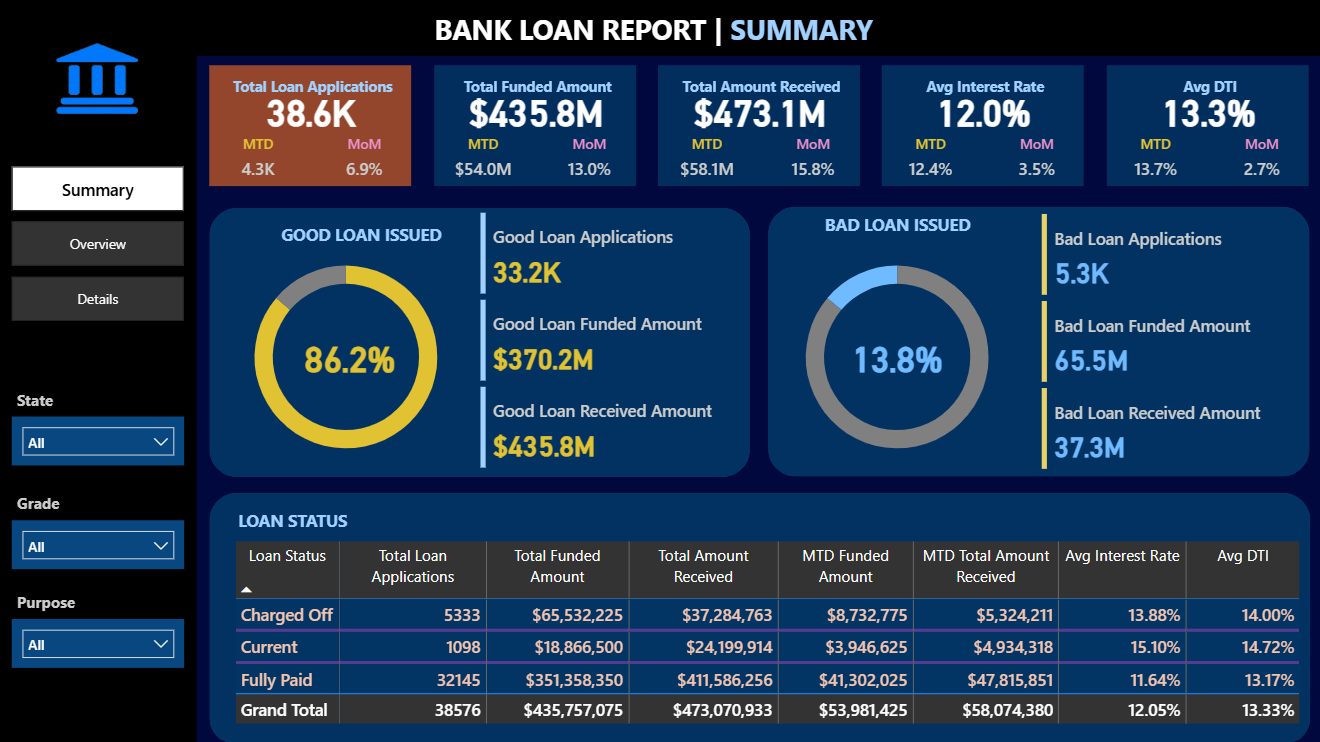

The page's visual inventory and layout, read from the dashboard file:
{"tool":"powerbi","page":{"name":"Summary","canvas":[1280,720],"ordinal":0},"visuals":[{"type":"shape","box":[0,54.3,191.8,666],"z":0},{"type":"shape","box":[204.4,64.5,194.9,116.6],"z":0,"group":"g1"},{"type":"shape","box":[420.9,64.5,194.9,116.6],"z":0,"group":"g2"},{"type":"shape","box":[637.4,64.5,194.9,116.6],"z":0,"group":"g3"},{"type":"shape","box":[853.8,64.5,194.9,116.6],"z":0,"group":"g4"},{"type":"shape","box":[1070.3,64.5,194.9,116.6],"z":0,"group":"g5"},{"type":"shape","box":[0,0,1280.3,54.9],"z":1000},{"type":"card","fields":{"Values":["bank_loan_data.Total Loan Applications"]},"box":[190.7,86.5,223.7,43.9],"z":1000,"group":"g1"},{"type":"card","fields":{"Values":["bank_loan_data.Total Funded Amount"]},"box":[407.2,86.5,223.7,43.9],"z":1000,"group":"g2"},{"type":"card","fields":{"Values":["bank_loan_data.Total Amount Received"]},"box":[623.7,86.5,223.7,43.9],"z":1000,"group":"g3"},{"type":"card","fields":{"Values":["bank_loan_data.Avg Interest Rate"]},"box":[840.1,86.5,223.7,43.9],"z":1000,"group":"g4"},{"type":"card","fields":{"Values":["bank_loan_data.Avg DTI"]},"box":[1056.6,86.5,223.7,43.9],"z":1000,"group":"g5"},{"type":"textbox","box":[205.8,70,194.9,31.6],"z":2000,"group":"g1"},{"type":"textbox","box":[422.3,70,194.9,31.6],"z":2000,"group":"g2"},{"type":"textbox","box":[638.8,70,194.9,31.6],"z":2000,"group":"g3"},{"type":"textbox","box":[855.2,70,194.9,31.6],"z":2000,"group":"g4"},{"type":"textbox","box":[1071.7,70,194.9,31.6],"z":2000,"group":"g5"},{"type":"shape","box":[203.9,476.5,1062.9,243.7],"z":2000},{"type":"card","title":"MTD","fields":{"Values":["bank_loan_data.MTD Loan Applications"]},"box":[215.4,130.4,72.7,53.5],"z":3000,"group":"g1"},{"type":"card","title":"MTD","fields":{"Values":["bank_loan_data.MTD Funded Amount"]},"box":[431.9,130.4,72.7,53.5],"z":3000,"group":"g2"},{"type":"card","title":"MTD","fields":{"Values":["bank_loan_data.MTD Total Amount Received"]},"box":[648.4,130.4,72.7,53.5],"z":3000,"group":"g3"},{"type":"card","title":"MTD","fields":{"Values":["bank_loan_data.MTD Avg Interest Rate"]},"box":[864.8,130.4,72.7,53.5],"z":3000,"group":"g4"},{"type":"card","title":"MTD","fields":{"Values":["bank_loan_data.MTD Avg DTI"]},"box":[1081.3,130.4,72.7,53.5],"z":3000,"group":"g5"},{"type":"shape","box":[204.5,201.7,522,260],"z":3000},{"type":"card","title":"MoM","fields":{"Values":["bank_loan_data.MoM Loan Application"]},"box":[316.9,130.4,72.7,53.5],"z":4000,"group":"g1"},{"type":"card","title":"MoM","fields":{"Values":["bank_loan_data.MoM Total Funded Amount"]},"box":[533.4,130.4,72.7,53.5],"z":4000,"group":"g2"},{"type":"card","title":"MoM","fields":{"Values":["bank_loan_data.MoM Total Amount Received"]},"box":[749.9,130.4,72.7,53.5],"z":4000,"group":"g3"},{"type":"card","title":"MoM","fields":{"Values":["bank_loan_data.MoM Avg Interest Rate"]},"box":[966.3,130.4,72.7,53.5],"z":4000,"group":"g4"},{"type":"card","title":"MoM","fields":{"Values":["bank_loan_data.MoM Avg DTI"]},"box":[1182.8,130.4,72.7,53.5],"z":4000,"group":"g5"},{"type":"card","fields":{"Values":["bank_loan_data.Good Loan %"]},"box":[284,323.8,112.5,43.9],"z":4000},{"type":"textbox","box":[226.8,487.4,195.4,31.4],"z":5000},{"type":"textbox","box":[415.8,5.5,447.3,45.3],"z":6000},{"type":"group","id":"g1","title":"Group 1","box":[190.7,64.5,223.7,119.4],"z":7000},{"type":"group","id":"g2","title":"Group 1","box":[407.2,64.5,223.7,119.4],"z":8000},{"type":"group","id":"g3","title":"Group 1","box":[623.7,64.5,223.7,119.4],"z":9000},{"type":"group","id":"g4","title":"Group 1","box":[840.1,64.5,223.7,119.4],"z":10000},{"type":"group","id":"g5","title":"Group 1","box":[1056.6,64.5,223.7,119.4],"z":11000},{"type":"donutChart","fields":{"Category":["bank_loan_data.Good v Bad Loan"],"Y":["bank_loan_data.Total Loan Applications"]},"box":[211.3,230.5,249.7,230.5],"z":12000},{"type":"shape","box":[743.7,200.3,522.8,260.7],"z":13000},{"type":"cardVisual","fields":{"Data":["bank_loan_data.Good Loan Applications","bank_loan_data.Good Loan Funded Amount","bank_loan_data.Good Loan Received Amount"]},"box":[461.1,201.7,260.7,258],"z":14000},{"type":"donutChart","fields":{"Category":["bank_loan_data.Good v Bad Loan"],"Y":["bank_loan_data.Total Loan Applications"]},"box":[743.7,230.5,249.7,230.5],"z":15000},{"type":"textbox","box":[771.2,201.7,194.9,31.6],"z":16000},{"type":"card","fields":{"Values":["bank_loan_data.Bad Loan %"]},"box":[812.4,323.8,112.5,43.9],"z":17000},{"type":"cardVisual","fields":{"Data":["bank_loan_data.Bad Loan Applications","bank_loan_data.Bad Loan Funded Amount","bank_loan_data.Bad Loan Received Amount"]},"box":[1003.1,203.1,260.7,258],"z":18000},{"type":"tableEx","fields":{"Values":["bank_loan_data.loan_status","bank_loan_data.Total Loan Applications","bank_loan_data.Total Funded Amount","bank_loan_data.Total Amount Received","bank_loan_data.MTD Funded Amount","bank_loan_data.MTD Total Amount Received","bank_loan_data.Avg Interest Rate","bank_loan_data.Avg DTI"]},"box":[223.7,518.7,1055,188],"z":19000},{"type":"textbox","box":[252.9,211.7,194.9,31.6],"z":20000},{"type":"slicer","fields":{"Values":["bank_loan_data.address_state"]},"box":[13.3,403,166.5,47.1],"z":21000},{"type":"textbox","box":[13.3,371.6,47.1,31.4],"z":22000},{"type":"slicer","fields":{"Values":["bank_loan_data.grade"]},"box":[13.3,503.1,166.5,47.1],"z":23000},{"type":"textbox","box":[13.3,471.7,61.5,31.4],"z":24000},{"type":"slicer","fields":{"Values":["bank_loan_data.purpose"]},"box":[13.3,598.4,166.5,47],"z":25000},{"type":"textbox","box":[13.3,567,83.2,31.4],"z":26000},{"type":"image","box":[26.5,6,138.7,142.4],"z":27000},{"type":"pageNavigator","box":[13.3,161.7,166.5,150.8],"z":28000}]}

Visuals, with their boxes in screenshot pixels (x1, y1, x2, y2), scaled from the page's 1280x720 canvas onto the 1320x742 screenshot:
shape: [left=0, top=56, right=198, bottom=741]
shape: [left=211, top=66, right=412, bottom=187]
shape: [left=434, top=66, right=635, bottom=187]
shape: [left=657, top=66, right=858, bottom=187]
shape: [left=880, top=66, right=1081, bottom=187]
shape: [left=1104, top=66, right=1305, bottom=187]
shape: [left=0, top=0, right=1319, bottom=57]
card - bank_loan_data.Total Loan Applications: [left=197, top=89, right=427, bottom=134]
card - bank_loan_data.Total Funded Amount: [left=420, top=89, right=651, bottom=134]
card - bank_loan_data.Total Amount Received: [left=643, top=89, right=874, bottom=134]
card - bank_loan_data.Avg Interest Rate: [left=866, top=89, right=1097, bottom=134]
card - bank_loan_data.Avg DTI: [left=1090, top=89, right=1319, bottom=134]
textbox: [left=212, top=72, right=413, bottom=105]
textbox: [left=435, top=72, right=636, bottom=105]
textbox: [left=659, top=72, right=860, bottom=105]
textbox: [left=882, top=72, right=1083, bottom=105]
textbox: [left=1105, top=72, right=1306, bottom=105]
shape: [left=210, top=491, right=1306, bottom=741]
"MTD" card: [left=222, top=134, right=297, bottom=190]
"MTD" card: [left=445, top=134, right=520, bottom=190]
"MTD" card: [left=669, top=134, right=744, bottom=190]
"MTD" card: [left=892, top=134, right=967, bottom=190]
"MTD" card: [left=1115, top=134, right=1190, bottom=190]
shape: [left=211, top=208, right=749, bottom=476]
"MoM" card: [left=327, top=134, right=402, bottom=190]
"MoM" card: [left=550, top=134, right=625, bottom=190]
"MoM" card: [left=773, top=134, right=848, bottom=190]
"MoM" card: [left=996, top=134, right=1071, bottom=190]
"MoM" card: [left=1220, top=134, right=1295, bottom=190]
card - bank_loan_data.Good Loan %: [left=293, top=334, right=409, bottom=379]
textbox: [left=234, top=502, right=435, bottom=535]
textbox: [left=429, top=6, right=890, bottom=52]
"Group 1" group: [left=197, top=66, right=427, bottom=190]
"Group 1" group: [left=420, top=66, right=651, bottom=190]
"Group 1" group: [left=643, top=66, right=874, bottom=190]
"Group 1" group: [left=866, top=66, right=1097, bottom=190]
"Group 1" group: [left=1090, top=66, right=1319, bottom=190]
donutChart - bank_loan_data.Good v Bad Loan x bank_loan_data.Total Loan Applications: [left=218, top=238, right=475, bottom=475]
shape: [left=767, top=206, right=1306, bottom=475]
cardVisual - bank_loan_data.Good Loan Applications x bank_loan_data.Good Loan Funded Amount: [left=476, top=208, right=744, bottom=474]
donutChart - bank_loan_data.Good v Bad Loan x bank_loan_data.Total Loan Applications: [left=767, top=238, right=1024, bottom=475]
textbox: [left=795, top=208, right=996, bottom=240]
card - bank_loan_data.Bad Loan %: [left=838, top=334, right=954, bottom=379]
cardVisual - bank_loan_data.Bad Loan Applications x bank_loan_data.Bad Loan Funded Amount: [left=1034, top=209, right=1303, bottom=475]
tableEx - bank_loan_data.loan_status x bank_loan_data.Total Loan Applications: [left=231, top=535, right=1319, bottom=728]
textbox: [left=261, top=218, right=462, bottom=251]
slicer - bank_loan_data.address_state: [left=14, top=415, right=185, bottom=464]
textbox: [left=14, top=383, right=62, bottom=415]
slicer - bank_loan_data.grade: [left=14, top=518, right=185, bottom=567]
textbox: [left=14, top=486, right=77, bottom=518]
slicer - bank_loan_data.purpose: [left=14, top=617, right=185, bottom=665]
textbox: [left=14, top=584, right=100, bottom=617]
image: [left=27, top=6, right=170, bottom=153]
pageNavigator: [left=14, top=167, right=185, bottom=322]
